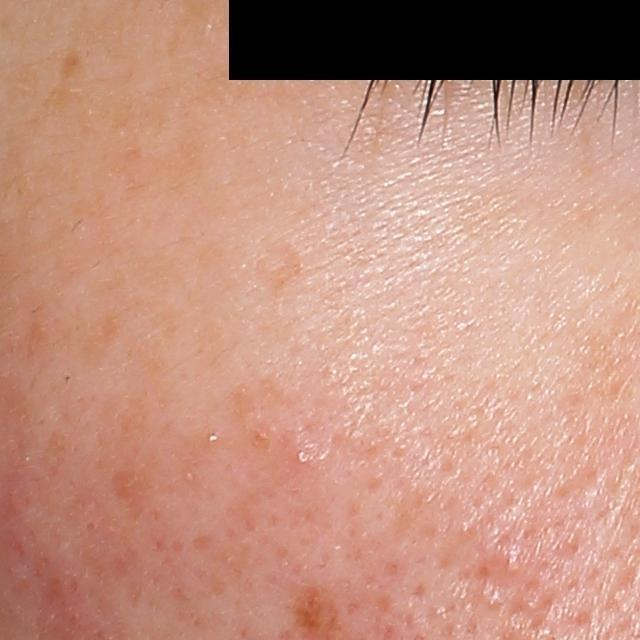atrophic_scar: (252, 241, 305, 296)
comedo: (502, 552, 522, 580)
melasma: (42, 56, 149, 136), (59, 37, 88, 85)
